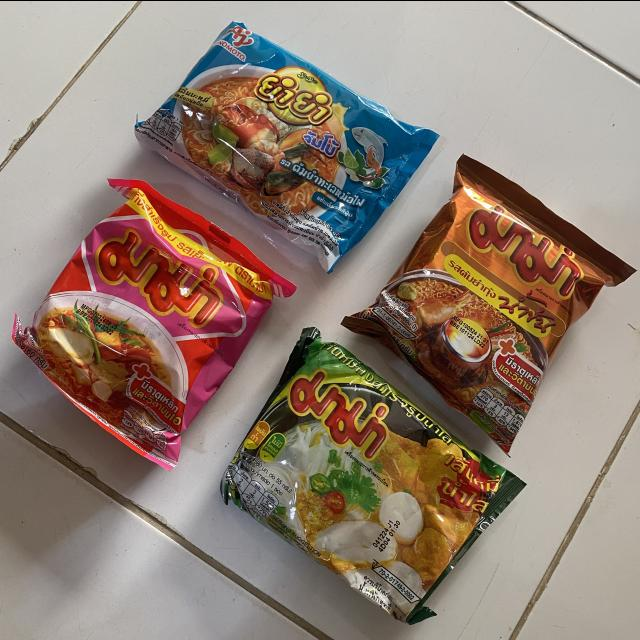plastik: (221, 326, 525, 624), (342, 154, 635, 452), (13, 178, 296, 468), (135, 21, 437, 271)
